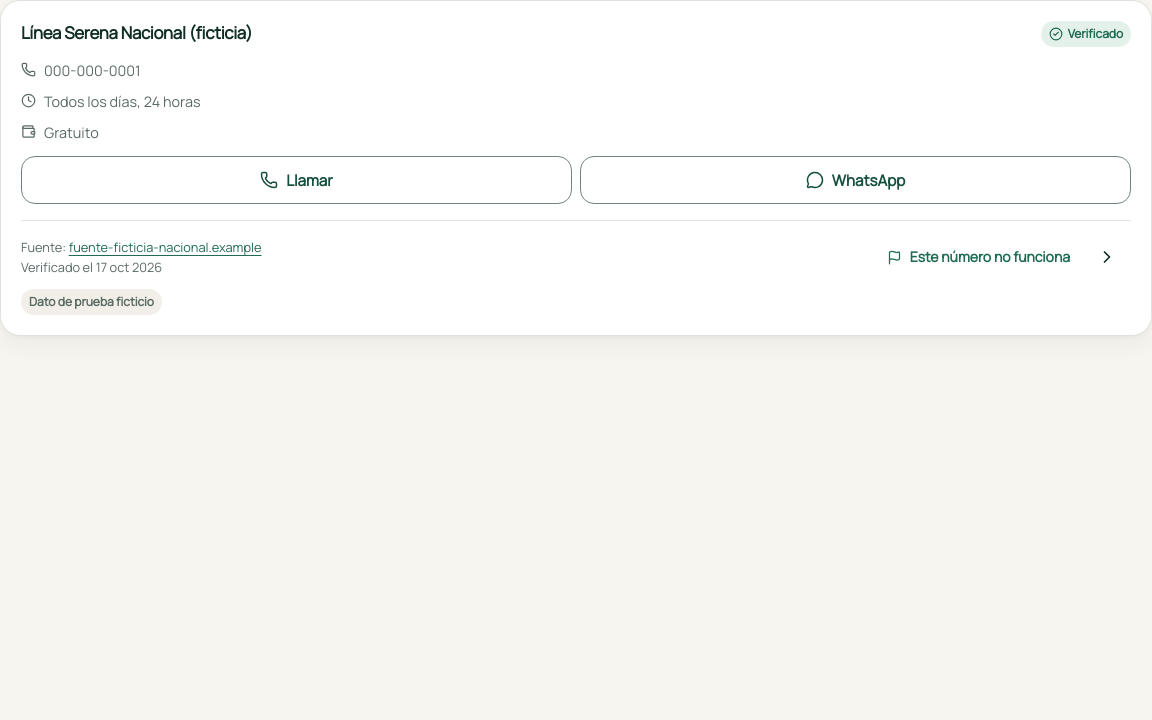
Scenario: tarjeta de servicio (CP-01) › "Este número no funciona" envía un reporte anónimo con el canal y el motivo
Click the button "Este número no funciona". click: coordinates (978, 257)
box: left=878, top=233, right=1079, bottom=281
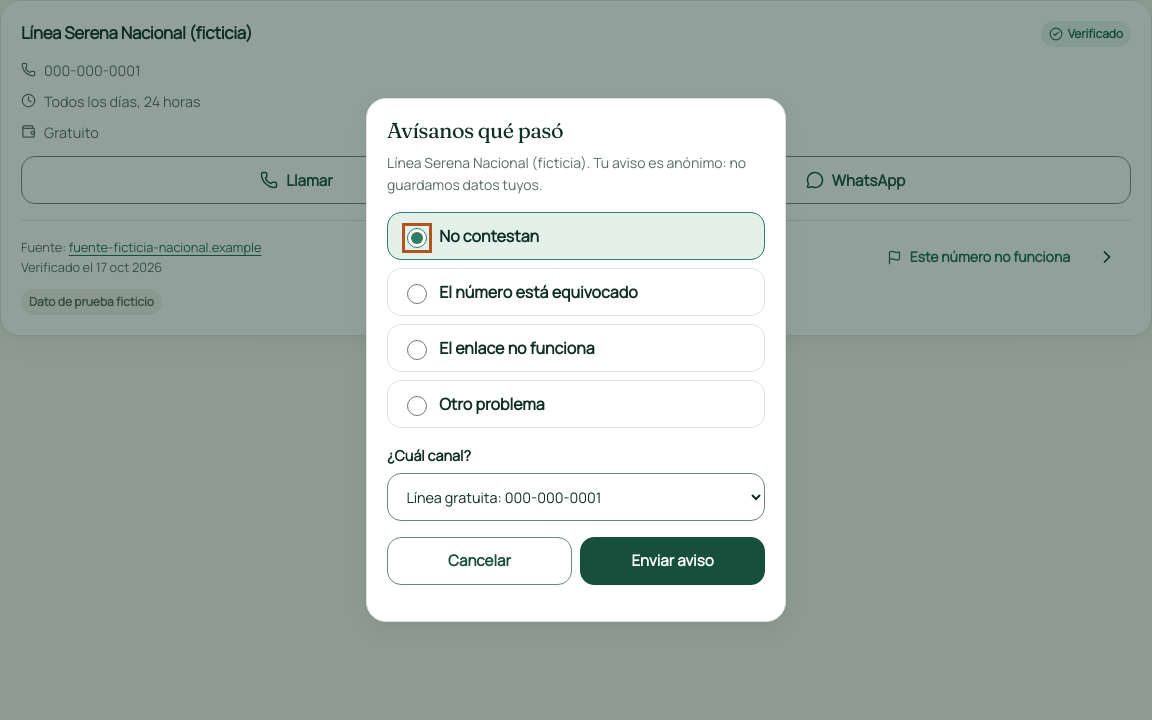
Click the radio button labelled "El número está equivocado". click: coordinates (417, 294)
box: left=407, top=284, right=427, bottom=304
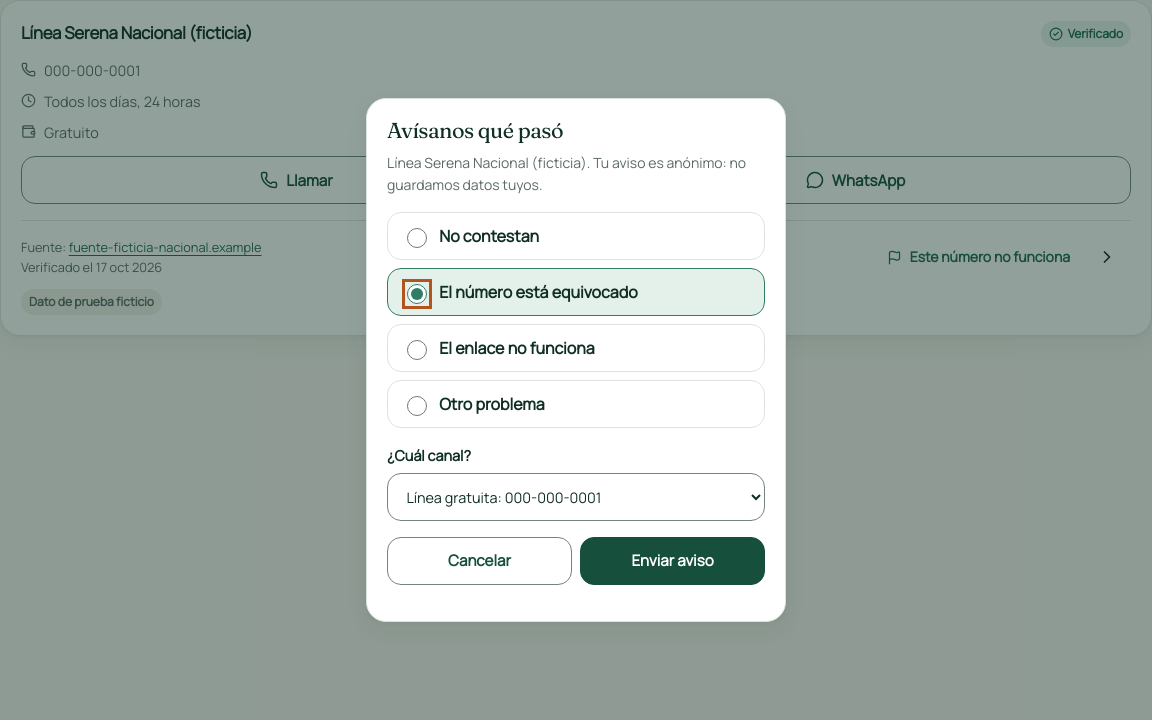
Click the button "Enviar aviso". click: coordinates (672, 561)
box: left=580, top=537, right=765, bottom=585
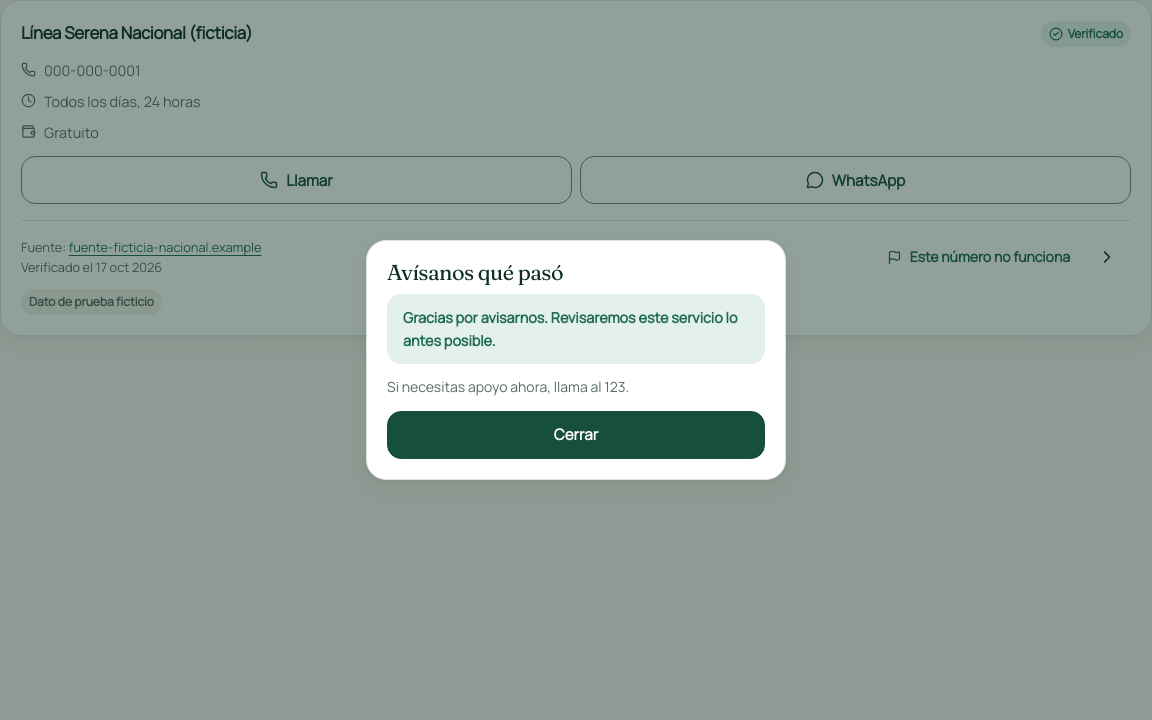
Expected: the text "Gracias por avisarnos. Revisaremos este servicio lo antes posible." is shown, left=387, top=294, right=765, bottom=364
